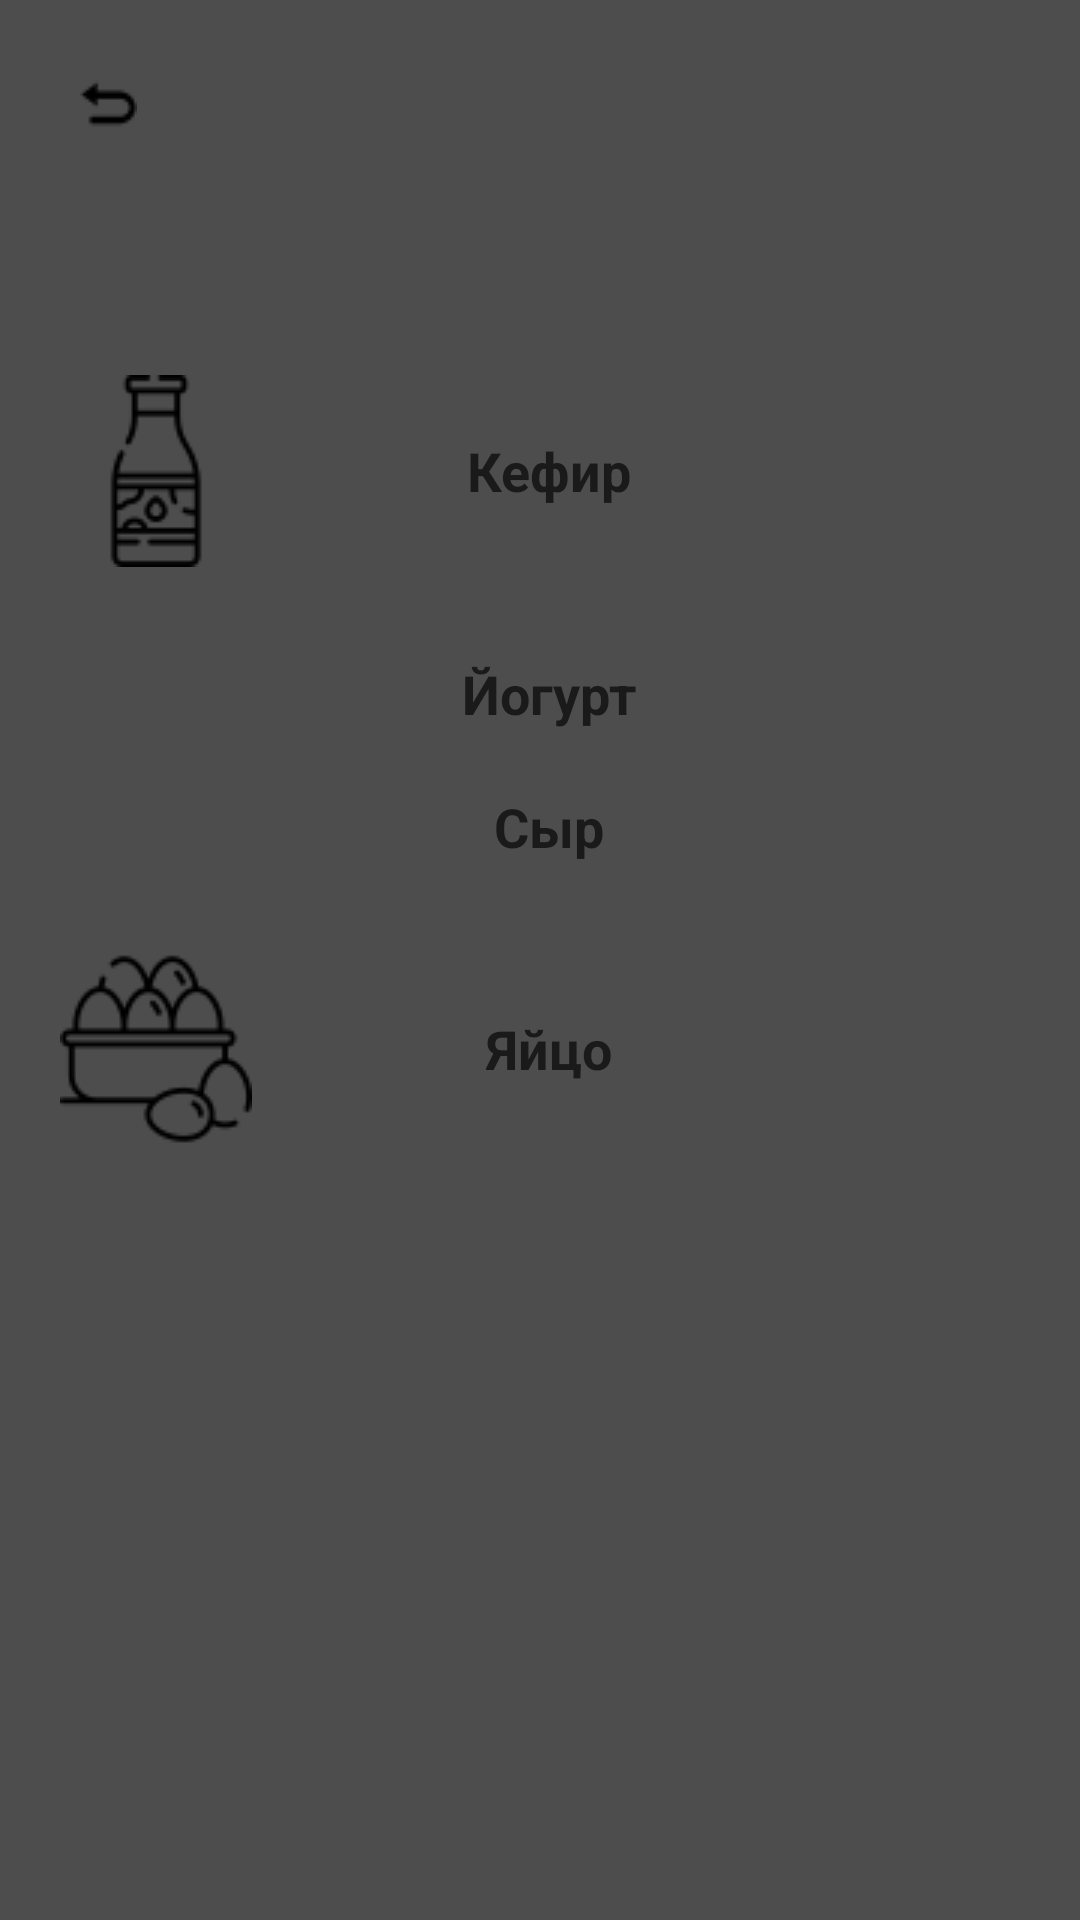

Icon bounding boxes for this 1080×1920 phone screenshot, format (x1, y1, x2, y2):
eggs: (60, 956, 252, 1142)
kefir: (111, 375, 201, 567)
return: (82, 84, 137, 124)
